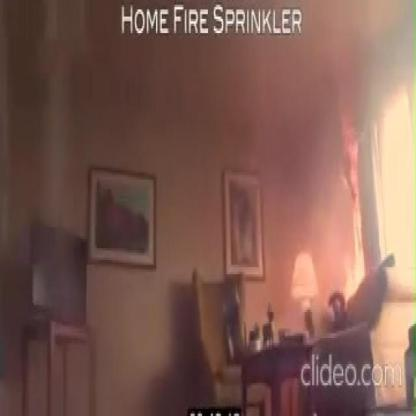Fire: (335, 132, 366, 303)
